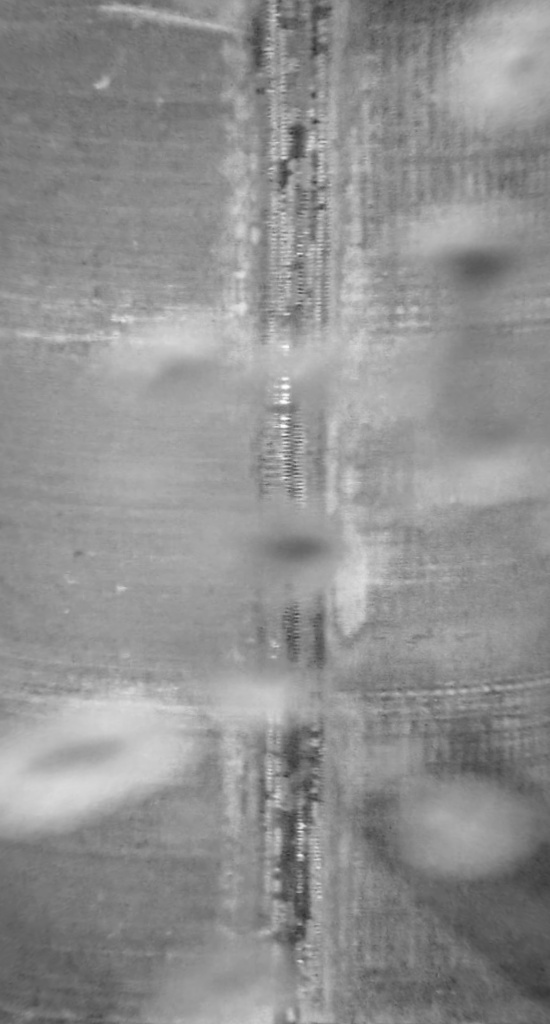splice: (243, 1, 340, 1023)
